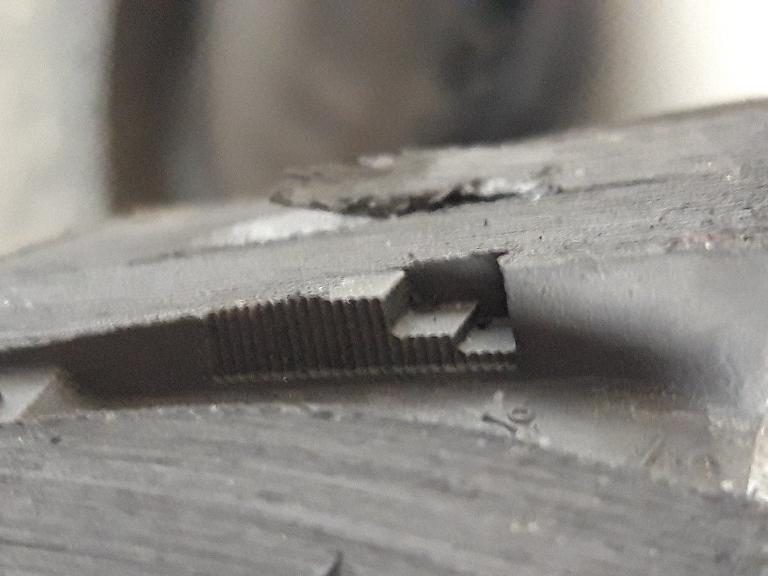temoin:50: (294, 238, 542, 394)
